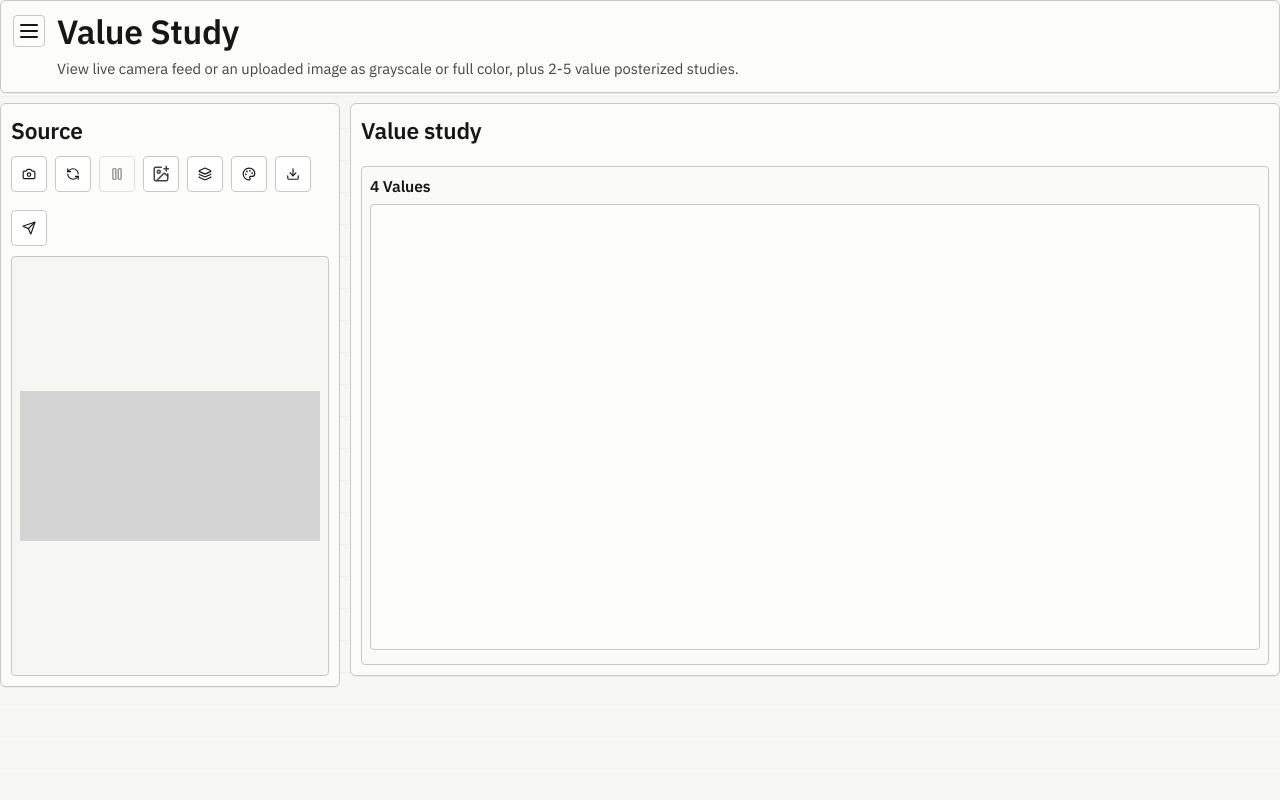
it: PosterizeViewerPage › sends the current study image to the selected reference board project
Click the button named "send to reference board" at {"x": 29, "y": 228}, box [11,210,47,246]
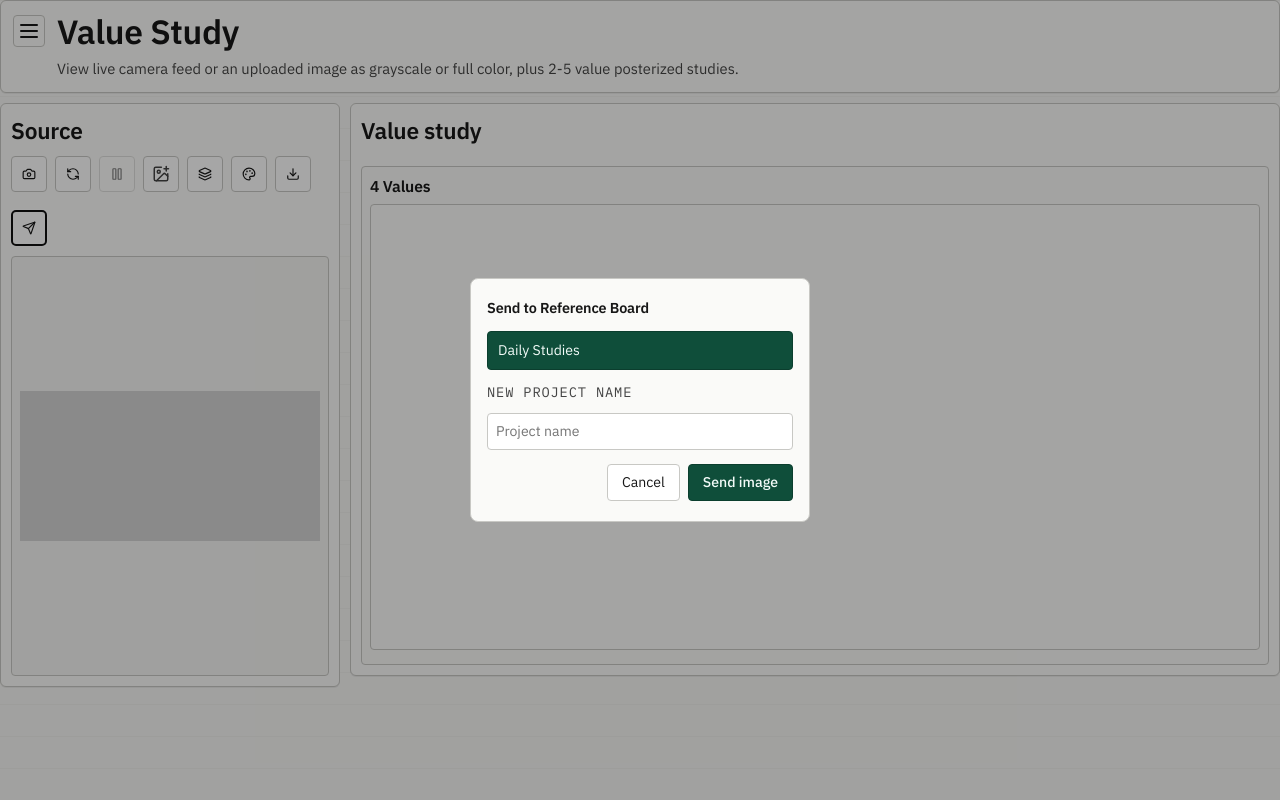
Click the button "Send image" at {"x": 740, "y": 482}, box [688,464,793,501]
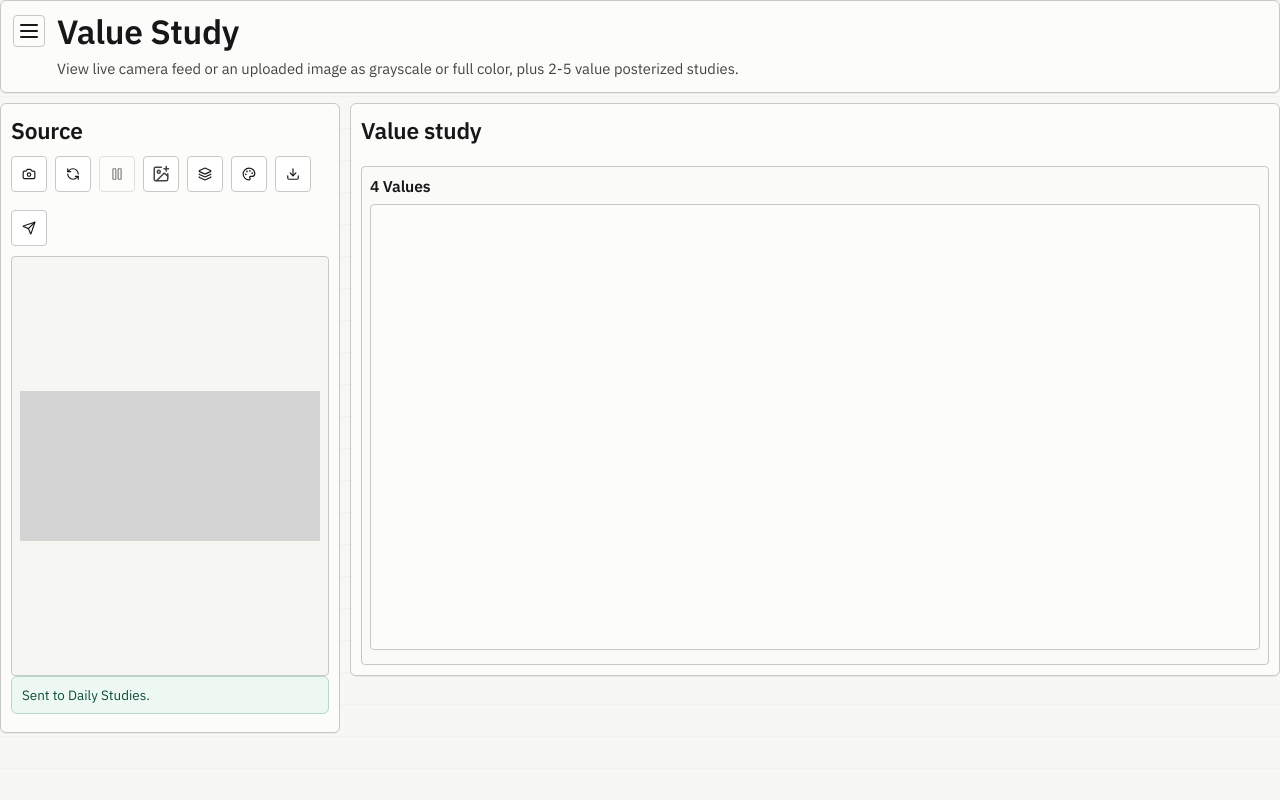
Now the message shows "Sent to Daily Studies", box [22,686,150,704]
